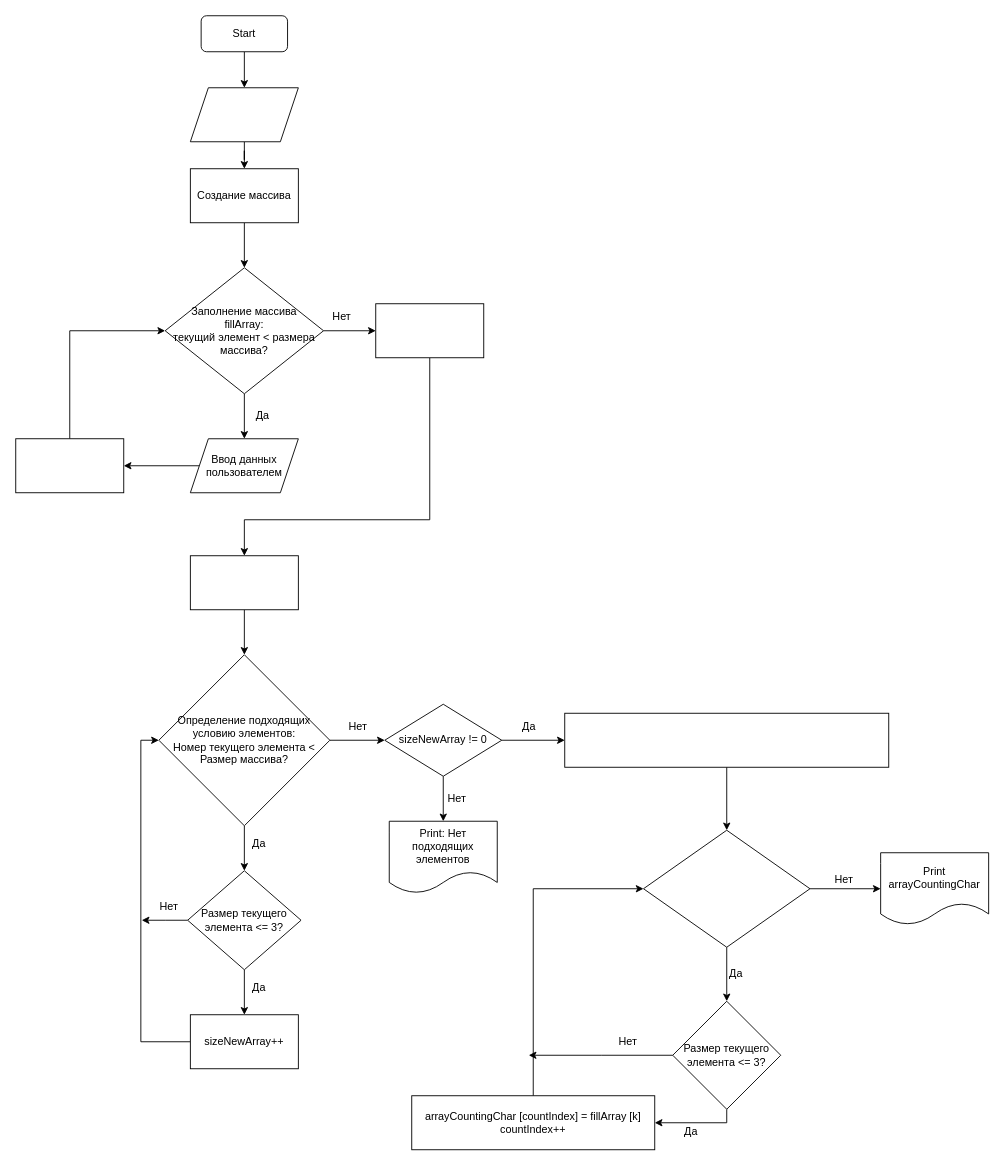
This 1004x1166 diagram has some shape labels left out. Each missing label, with the centre of its shape:
sizeNewArray = 0: (x=243, y=582)
Ввод данных пользователем (размер массива): (x=243, y=114)
Внесение данных в массив: (x=69, y=465)
Возвращение массива, вывод на экран массива: (x=429, y=330)
Перебор массива fillArray: Номер текущего элемента (k) < fillArray.Lenght?: (x=726, y=888)
Создание массива arrayCountingChar размером sizeNewArray countIndex = 0: (x=726, y=739)
